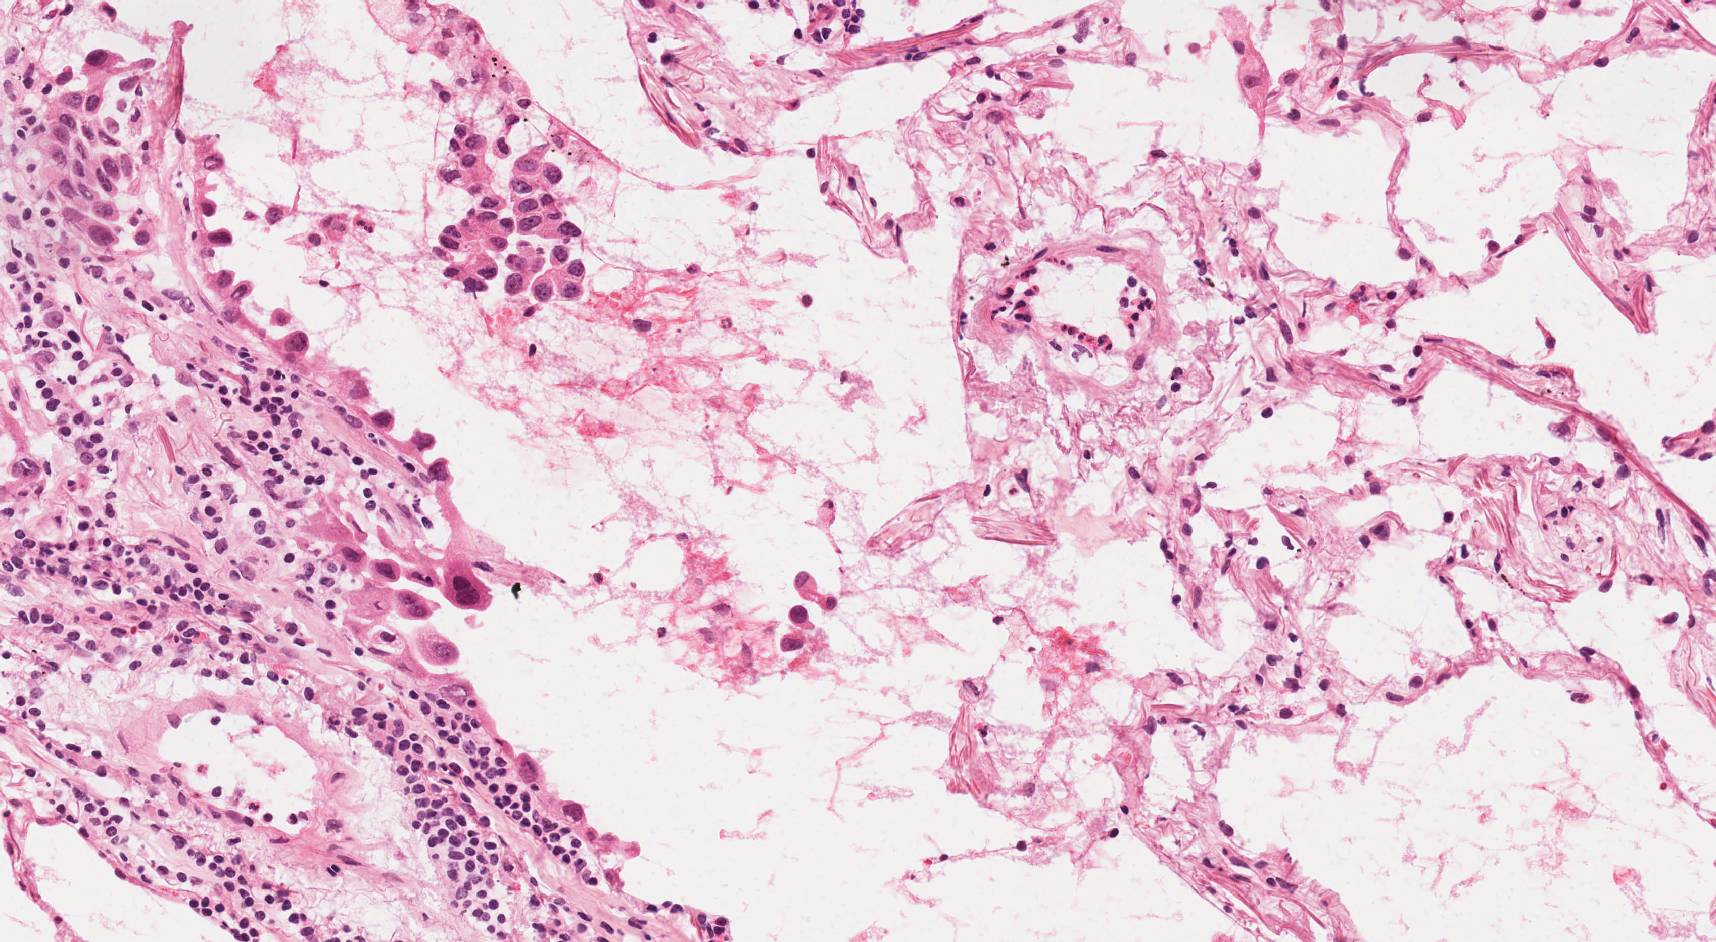stas: (435, 124, 585, 301)
